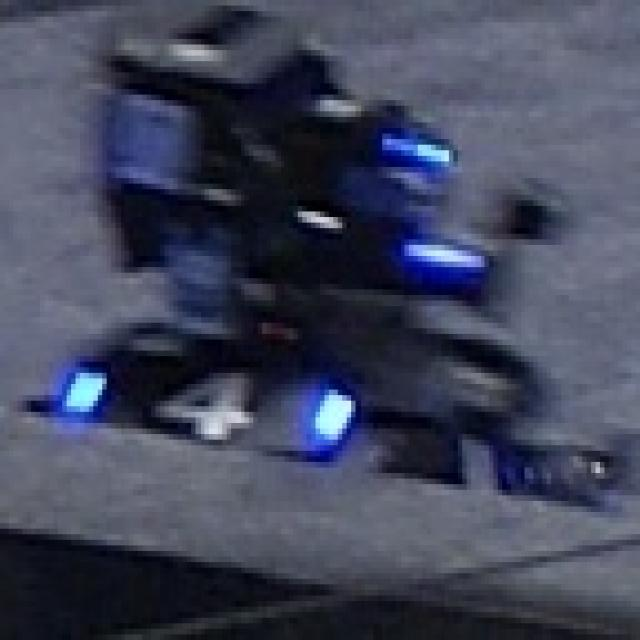B4: (55, 337, 349, 442)
